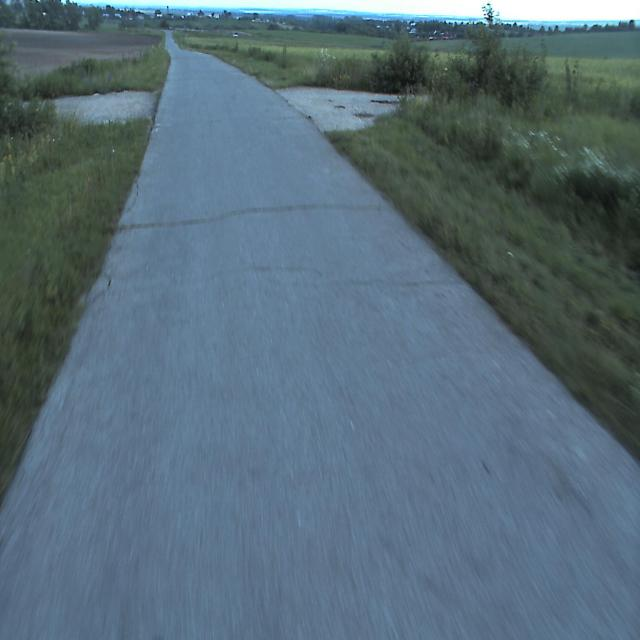road: (0, 33, 640, 639)
